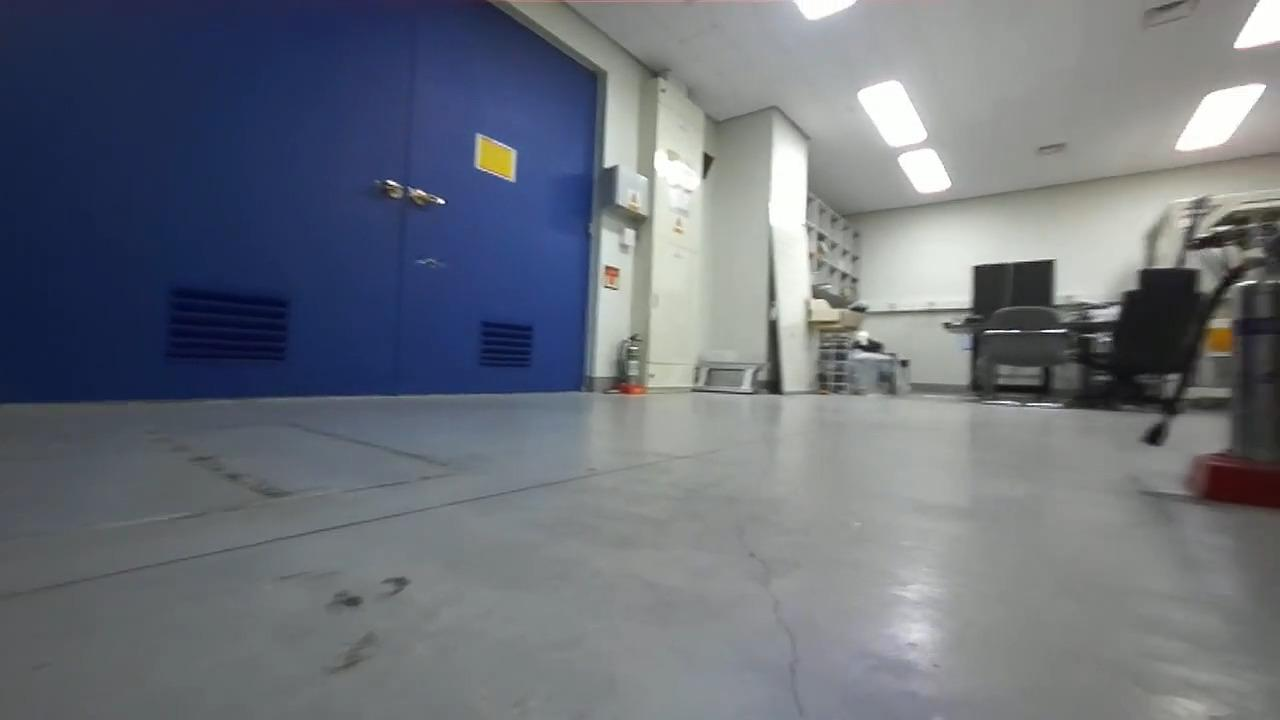crazyflie: (405, 252, 453, 273)
